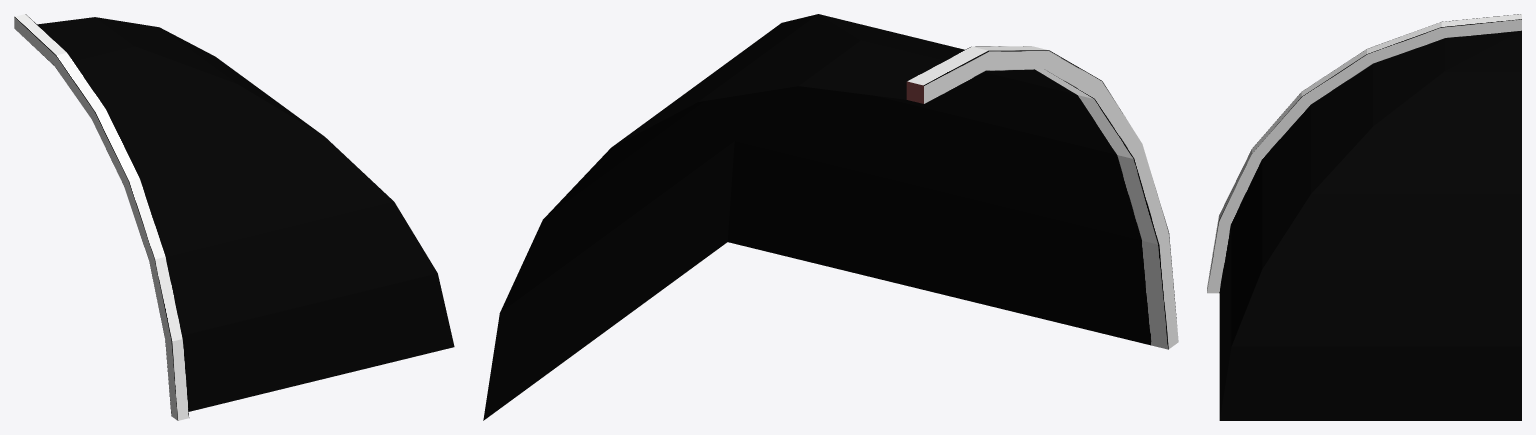
Rendered from gh_arc1_corner.glb.
3 views of the same model, side by side, from view 1: azimuth 30°, elevation 25°; view 2: azimuth 150°, elevation 25°; view 3: azimuth 270°, elevation 25° (orthographic). The views are drawn at different scales.
Parts seen in each view (by area): view 1: gh_arc1_corner; view 2: gh_arc1_corner; view 3: gh_arc1_corner.
Boxes of the visible parts, x1,y1,x2,y2 form: gh_arc1_corner: (14,14,454,420); gh_arc1_corner: (483,14,1178,420); gh_arc1_corner: (1207,14,1521,420).
Bounding box in the file's own units: 1 × 0.96 × 1.
Materials: 3 (3 with a texture image).
